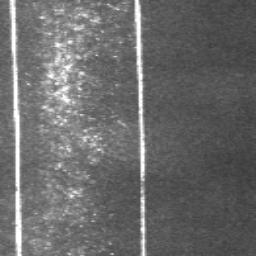Bright scratch: (10, 0, 22, 256), (135, 0, 146, 256)
